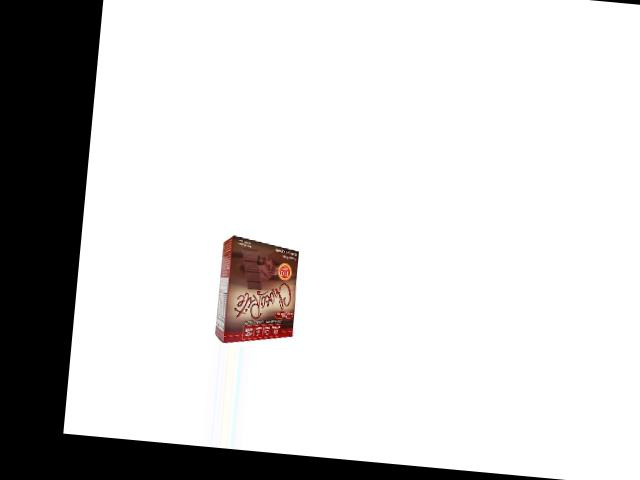chocolate: (214, 234, 303, 346)
